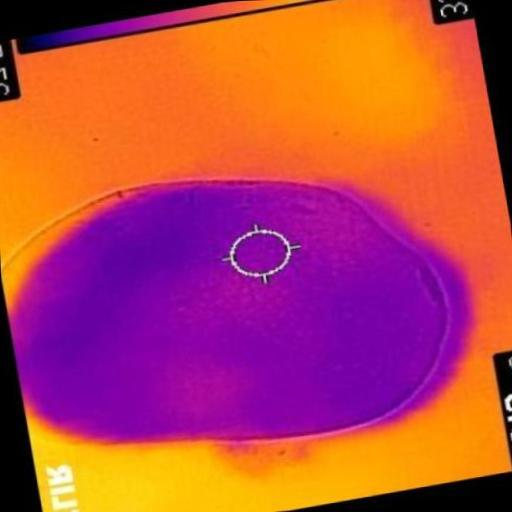alphanso: (1, 182, 461, 442)
